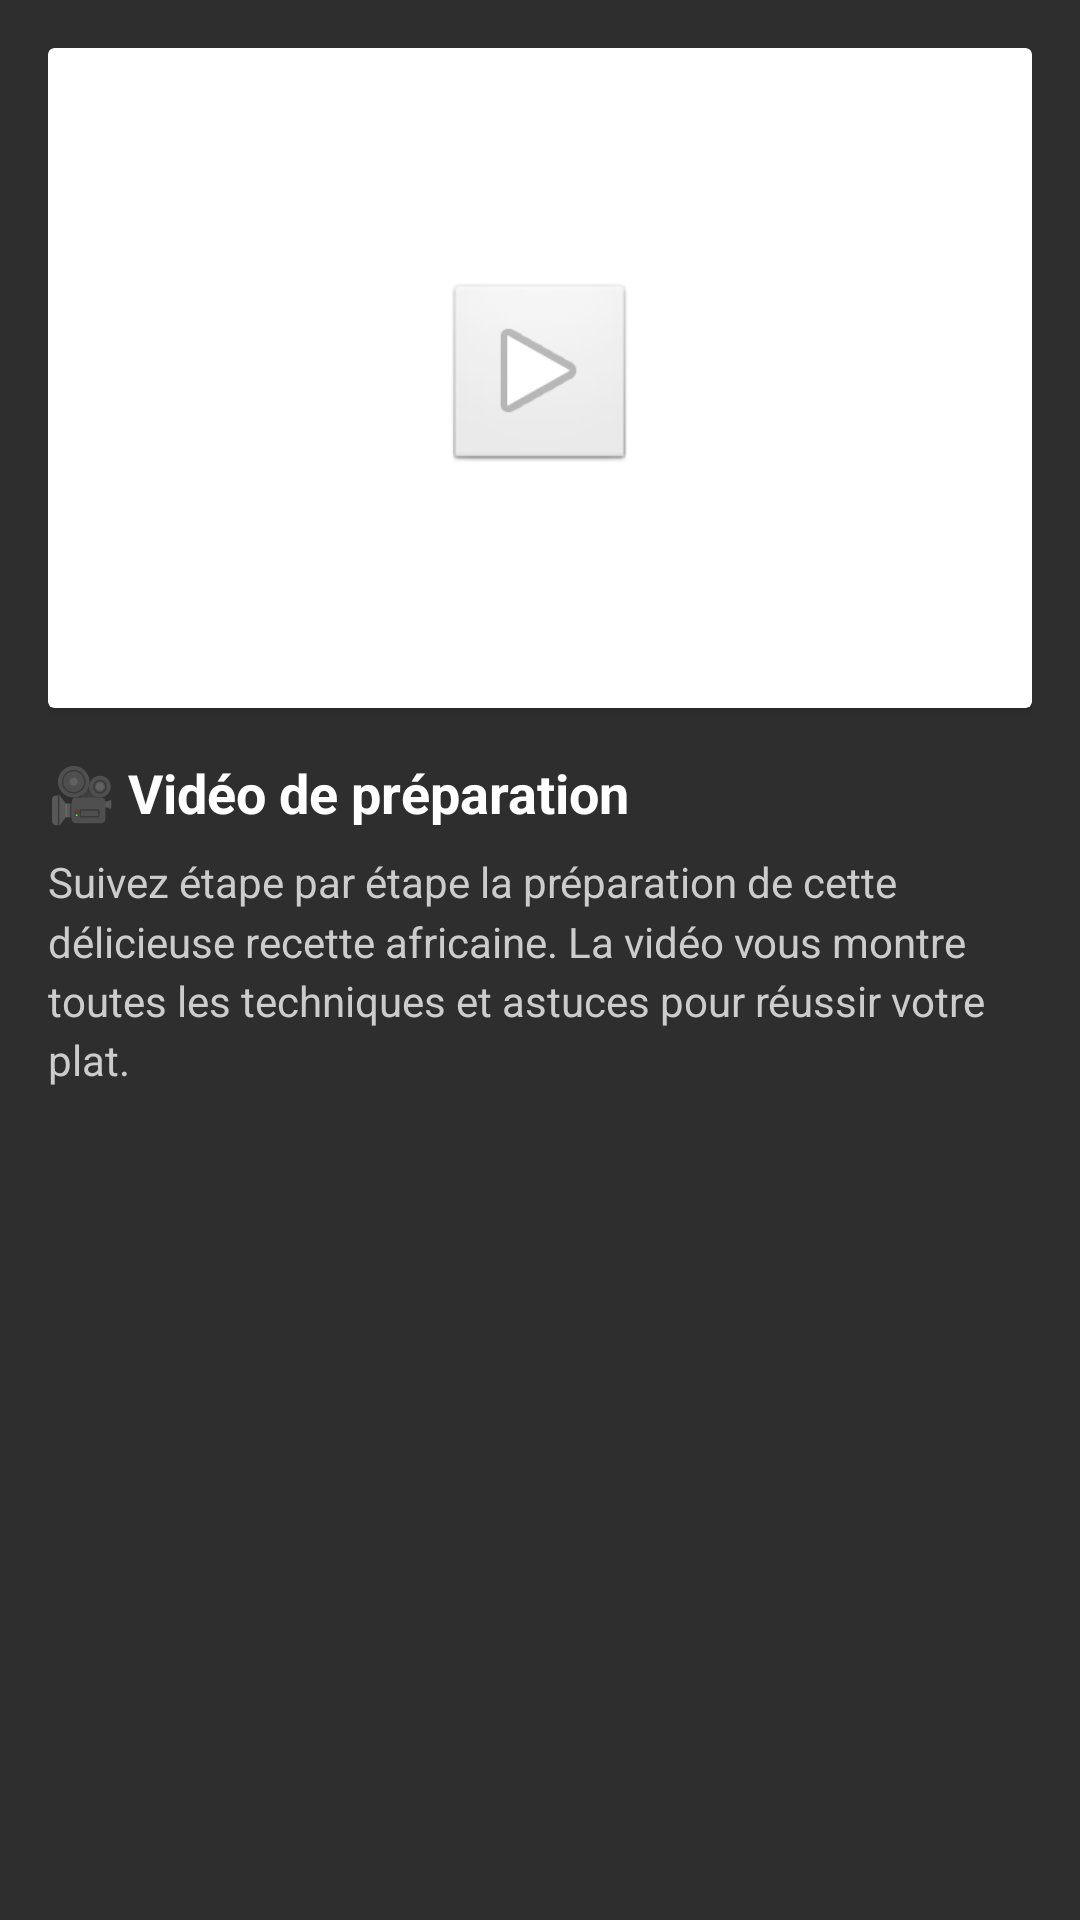

Icons on this 1080×1920 Android screen, each with the point to tap as [x,y]:
Lire la vidéo: [539,373]
